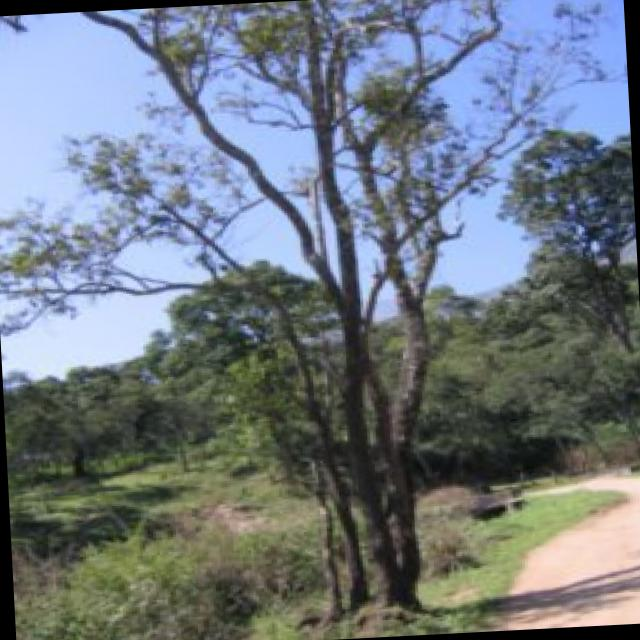Medicinal-Sandalwood: (133, 0, 516, 628)
